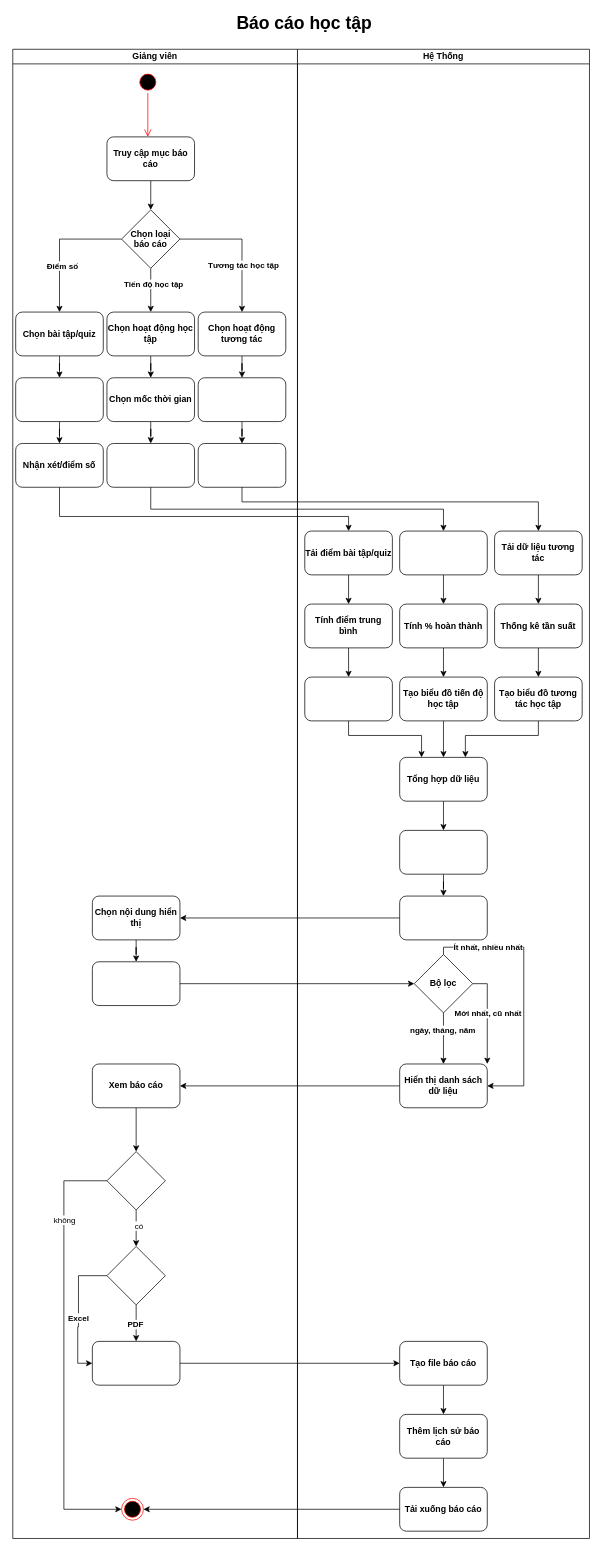
This 602x1551 diagram has some shape labels left out. The shapes that lost their labels are listed below. From the top down, each one's centre as x and y in pixels, then its label:
point (59, 399): Chọn tiêu chí đánh giá
point (241, 399): Mức độ tham gia
point (150, 465): Đánh giá tiến độ
point (241, 465): Nhận xét tương tác
point (443, 552): Tải dữ liệu học tập
point (348, 698): Tạo biểu đồ điểm số
point (443, 852): Tạo bảng tổng hợp
point (443, 917): Tạo biểu đồ tổng hợp
point (136, 983): Sắp xếp theo bộ lọc
point (135, 1180): Xuất báo cáo
point (135, 1275): Chọn định dạng
point (136, 1363): chọn xuất báo cáo
